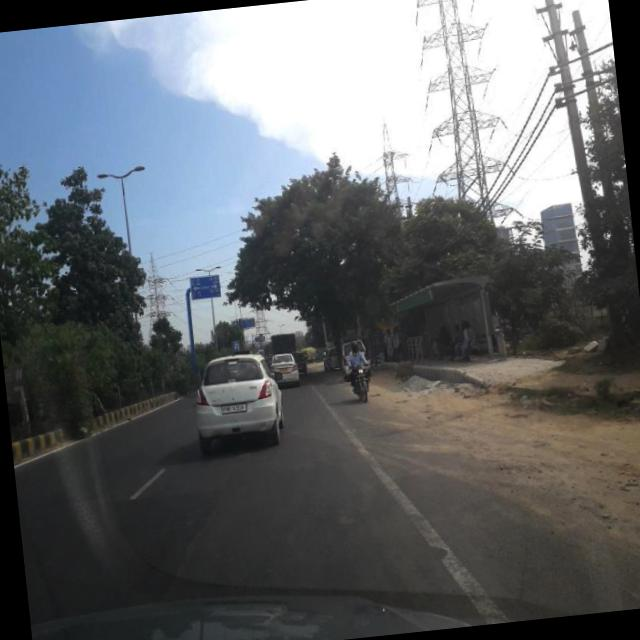crack: (215, 433, 357, 588)
